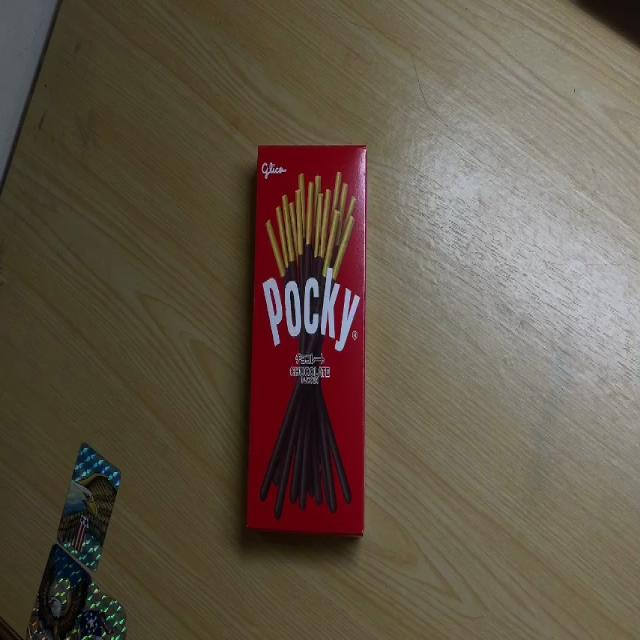Pocky: (245, 141, 366, 538)
